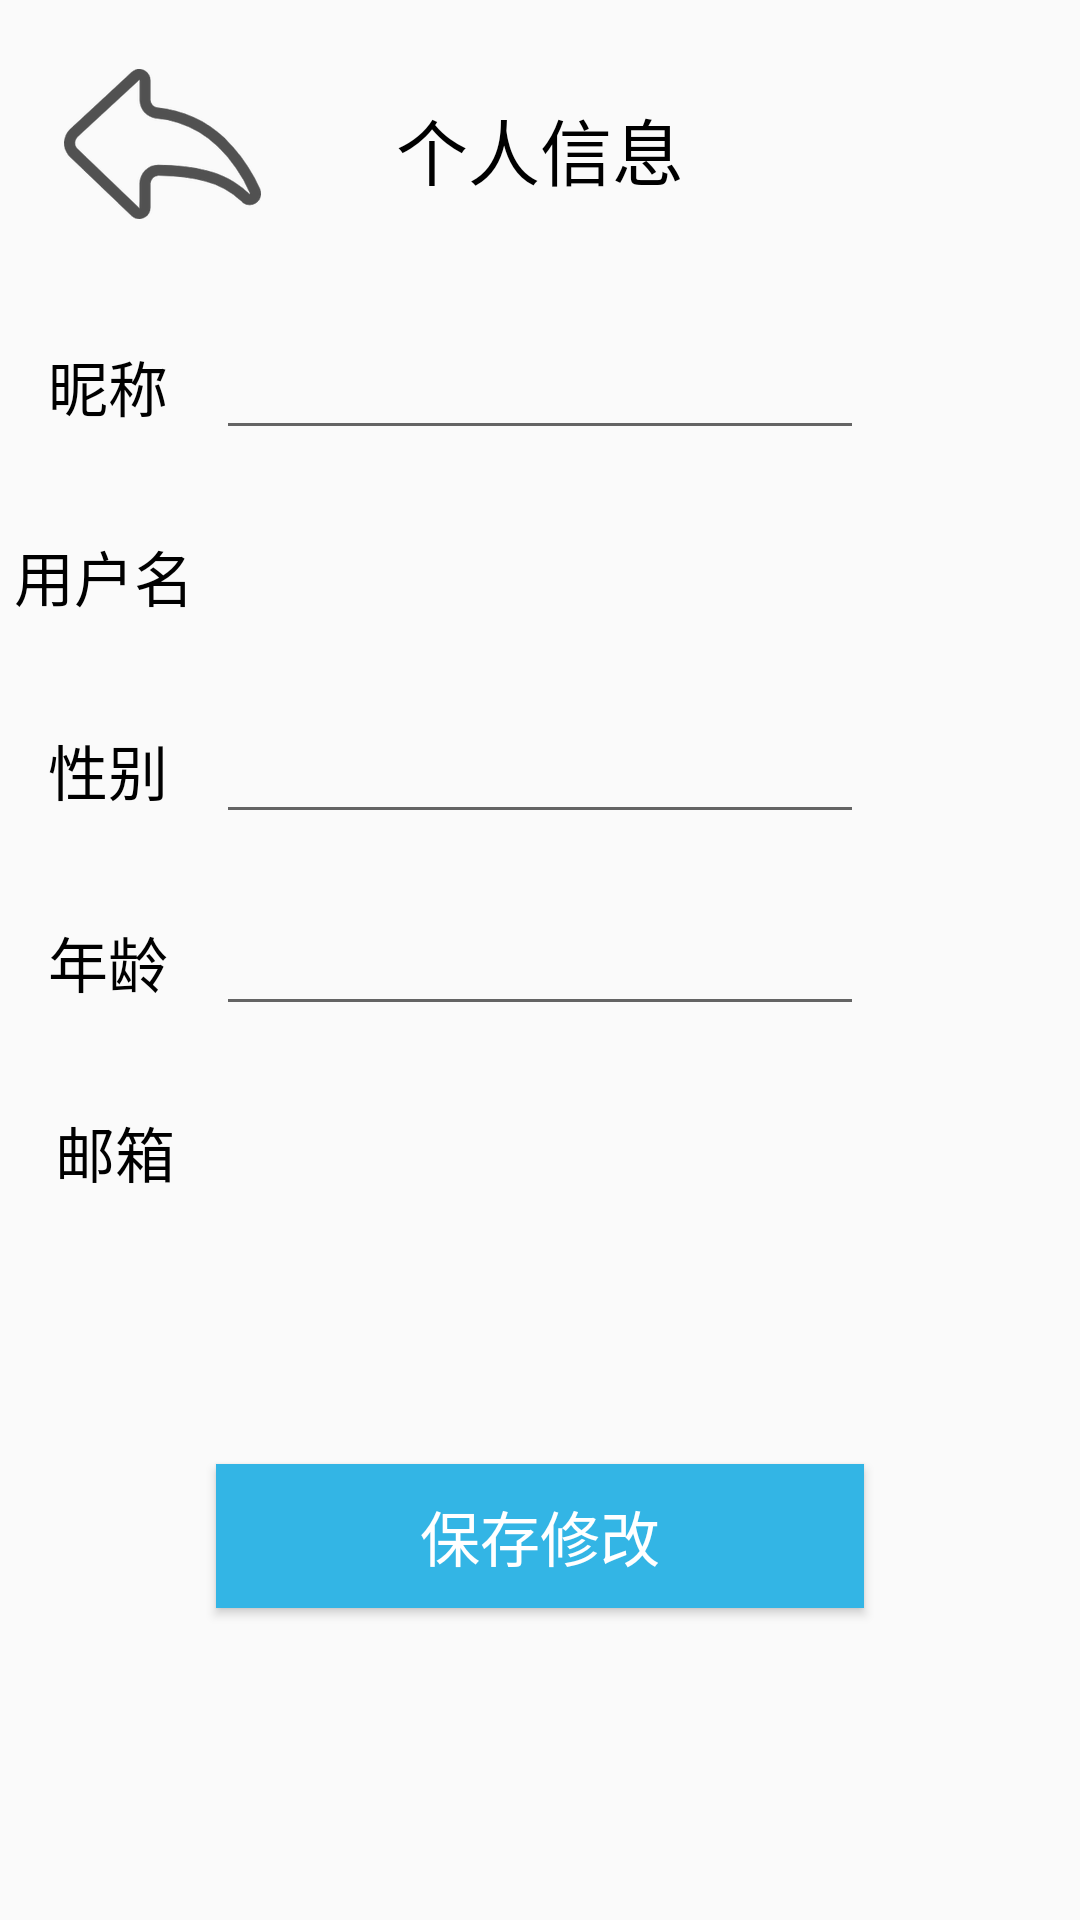

Where icons sit on this 1080x1920 app screen, as (x1, y1, x2, y2):
fanhui: (64, 69, 261, 219)
